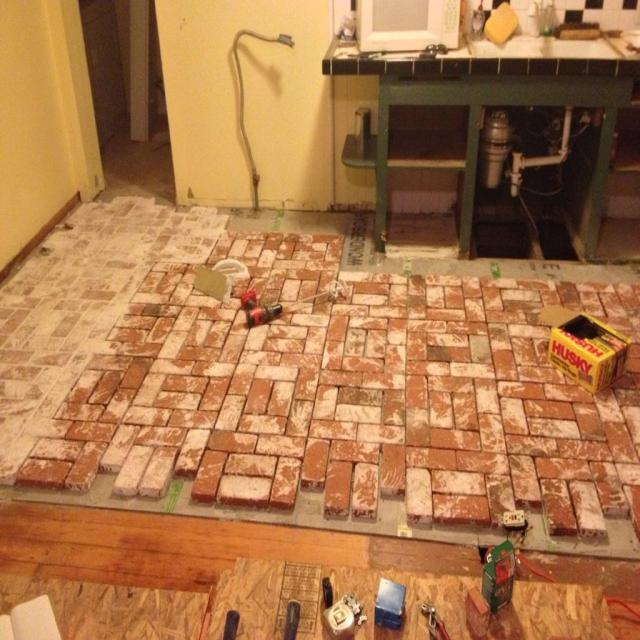Table: (325, 30, 627, 247)
